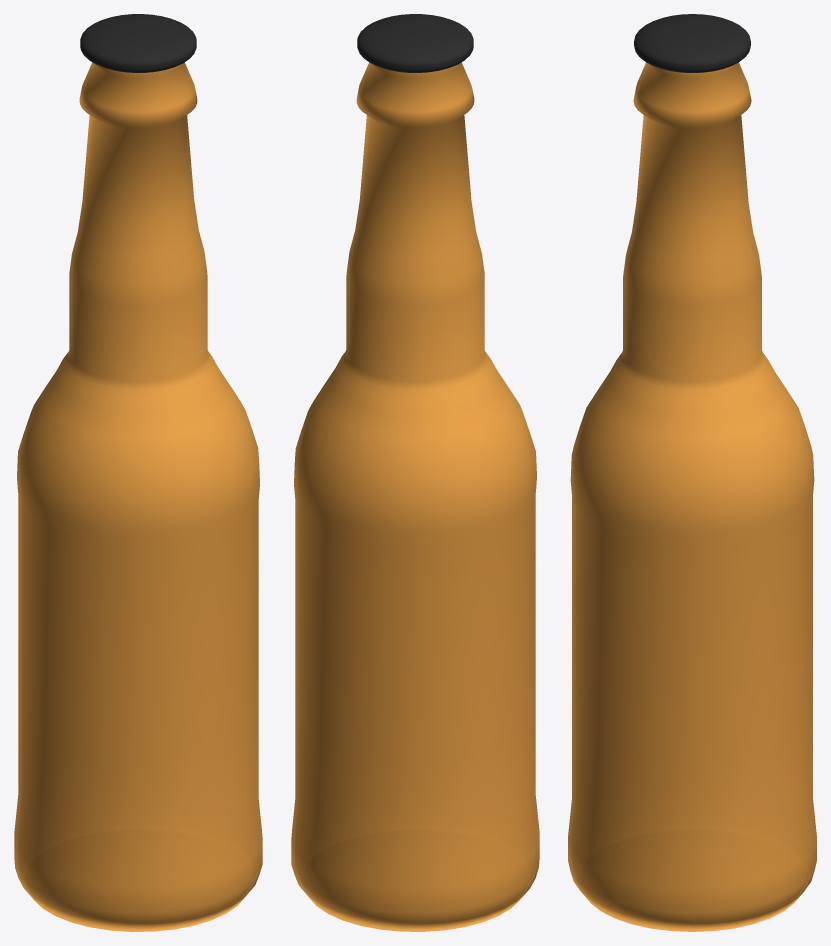
Rendered from bearBottle12.gltf.
3 renders of one model, left to right at view 1: azimuth 30°, elevation 25°; view 2: azimuth 150°, elevation 25°; view 3: azimuth 270°, elevation 25°, orthographic.
Parts seen in each view (by area): view 1: Cylinder, Cylinder.001; view 2: Cylinder, Cylinder.001; view 3: Cylinder, Cylinder.001.
Part boxes in pixels (x1,y1,x2,y2): Cylinder: (14, 62, 262, 931); Cylinder.001: (80, 14, 196, 72); Cylinder: (291, 62, 539, 931); Cylinder.001: (357, 14, 473, 72); Cylinder: (568, 62, 816, 931); Cylinder.001: (634, 14, 750, 72).
Bounding box in the file's own units: 2 × 7.62 × 2.
